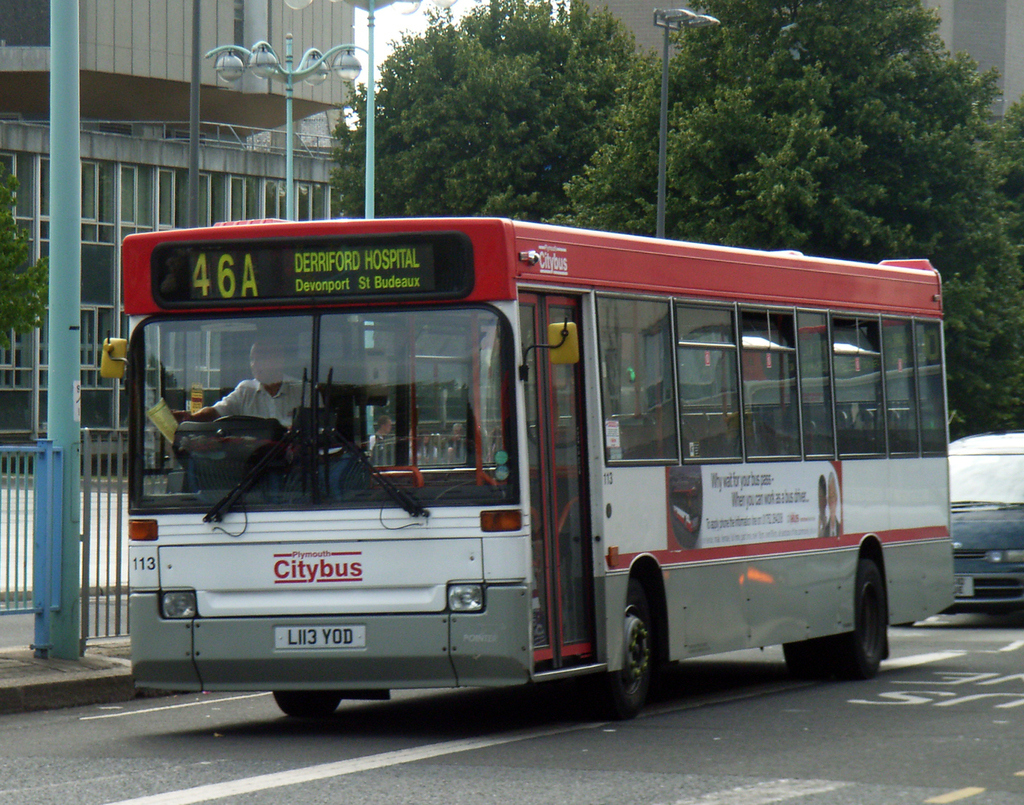Car: (891, 427, 1023, 629)
